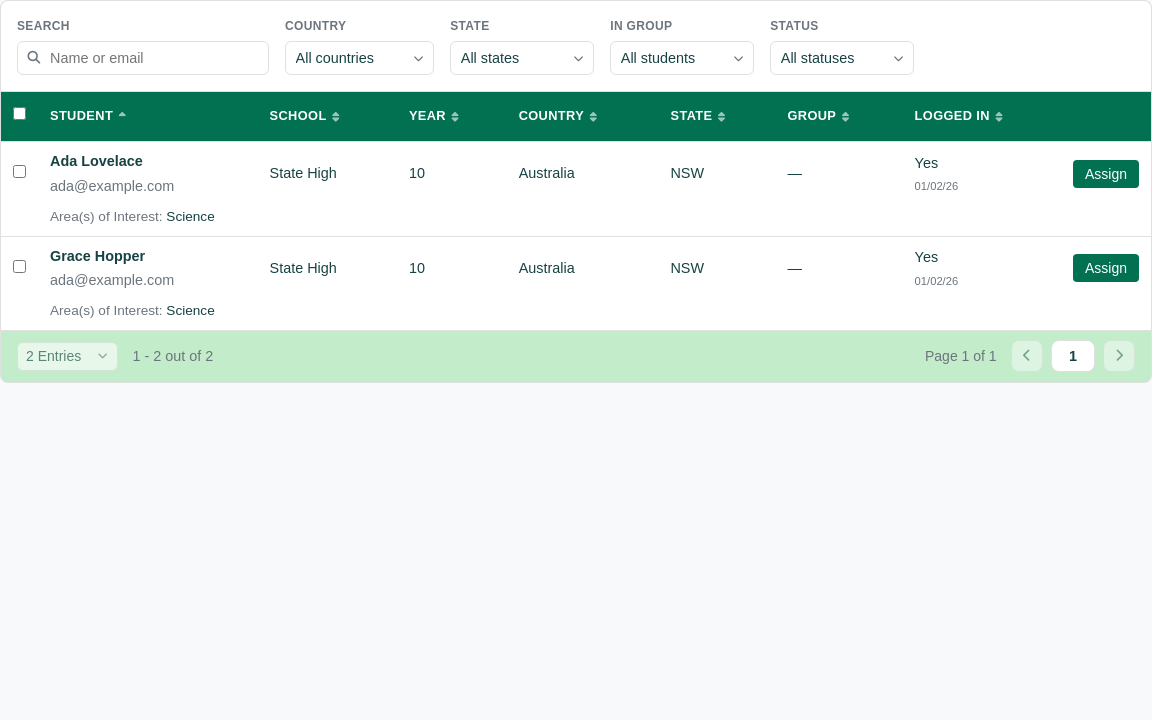
AdminUsersView › opens the assign dialog with the selected students from the bulk bar
This screenshot has width=1152, height=720.
Click the 1st checkbox named "Select —" at [20, 172], box [13,165,26,178]
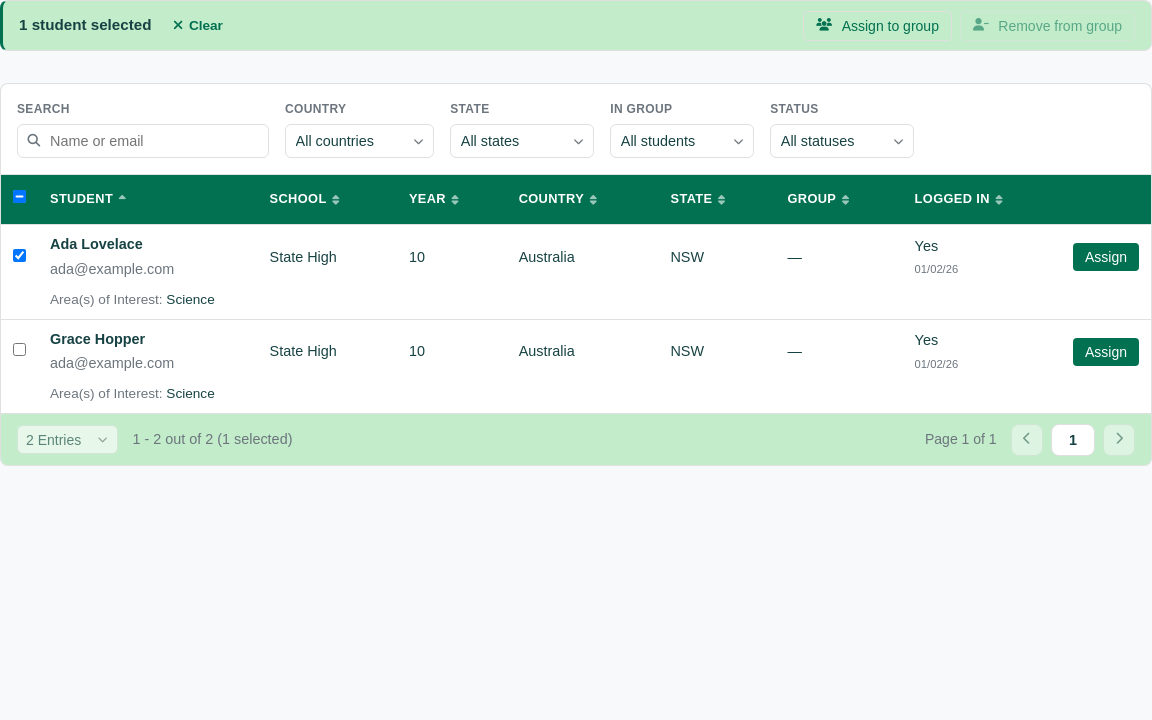
Click the 2nd checkbox named "Select —" at [20, 350], box [13,343,26,356]
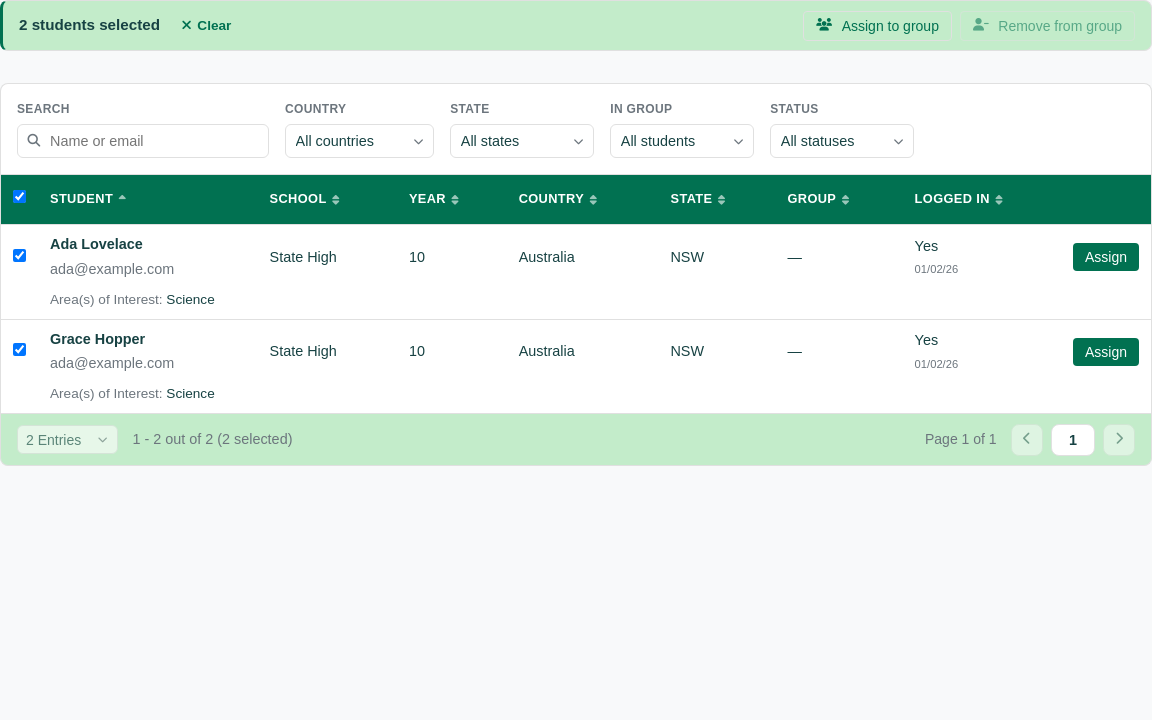
Check: the button "Assign to group" is shown
Click the button "Assign to group" at [878, 26], box [803,11,952,41]
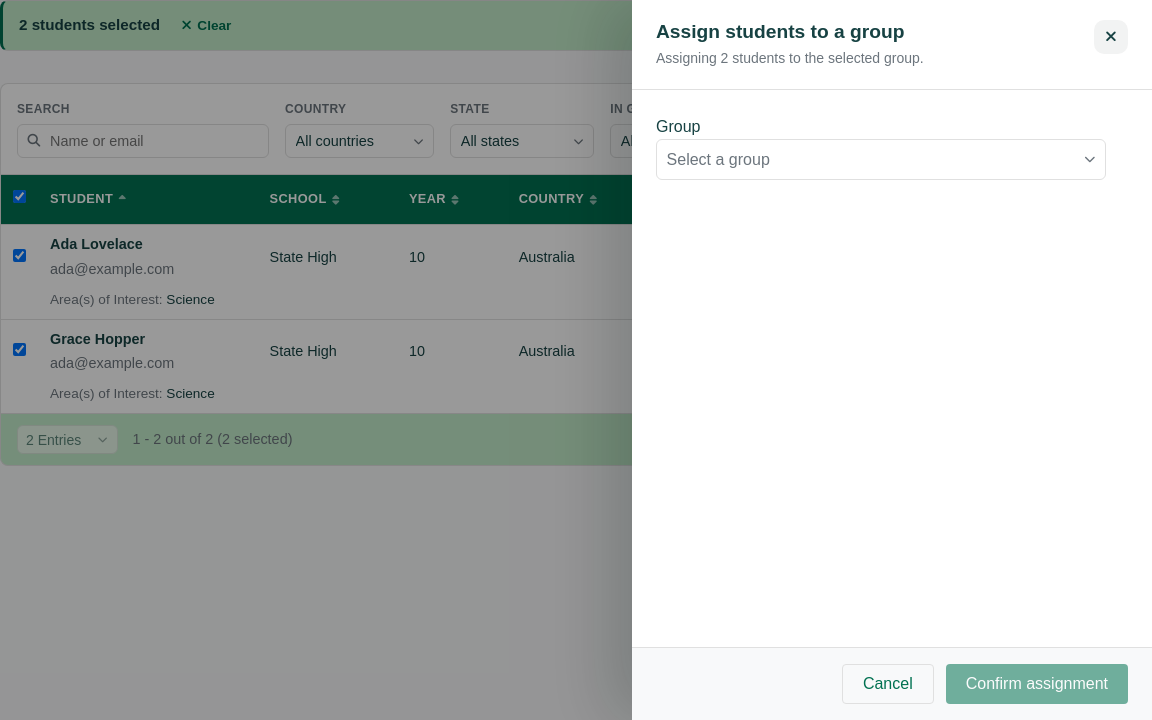
Check: the dialog is shown
Check: the dialog shows "Assigning 2 students", box [656,50,924,66]
